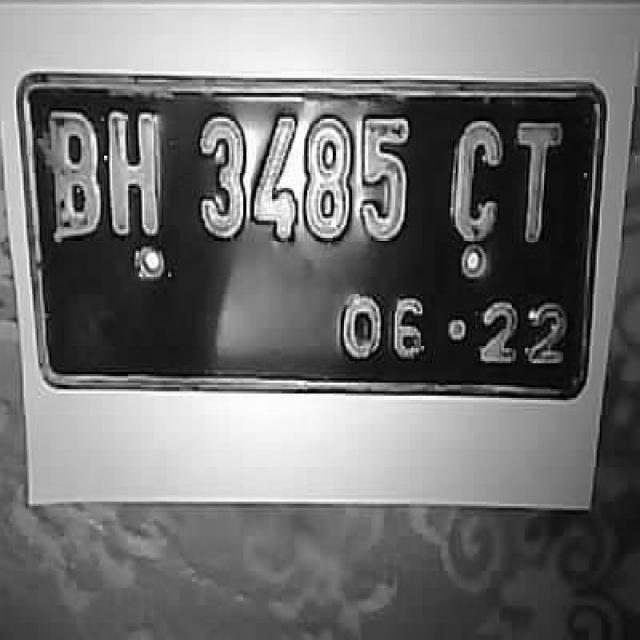3: (188, 110, 249, 244)
4: (247, 106, 302, 247)
5: (358, 111, 412, 248)
8: (303, 108, 356, 248)
B: (44, 100, 104, 246)
C: (447, 114, 508, 245)
H: (102, 96, 168, 246)
T: (508, 113, 566, 251)
